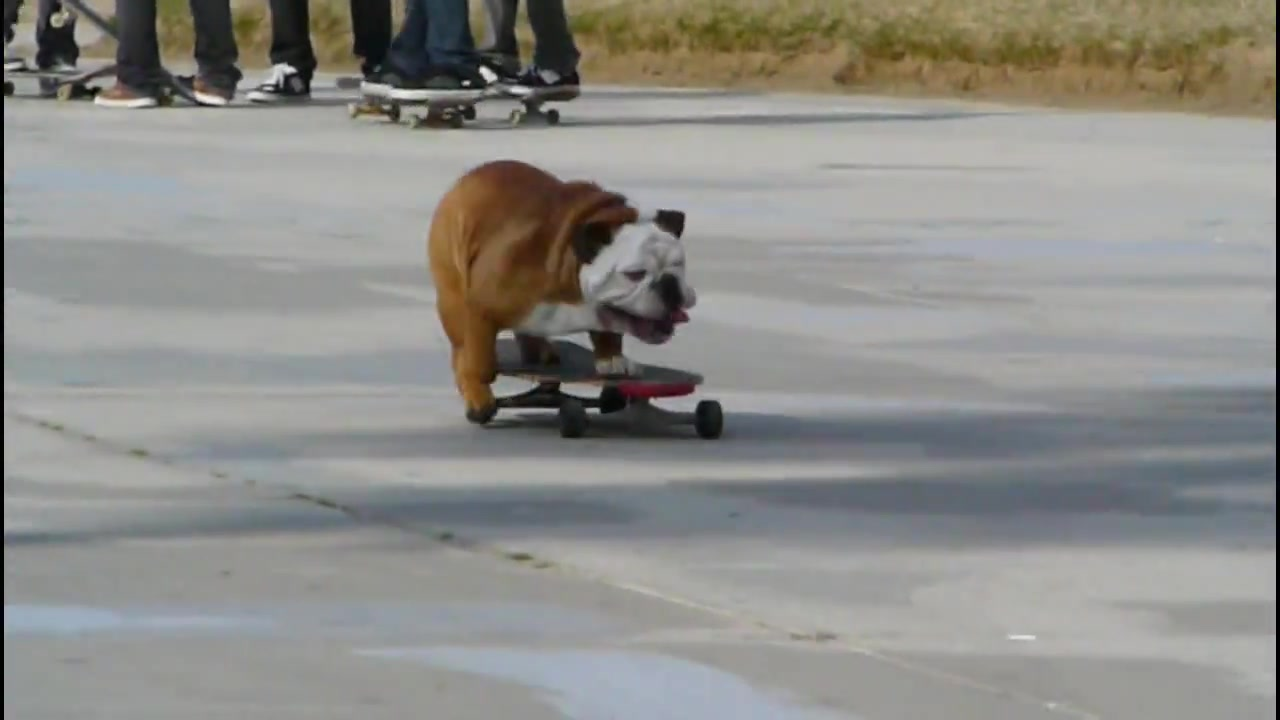dog: (416, 159, 697, 427)
